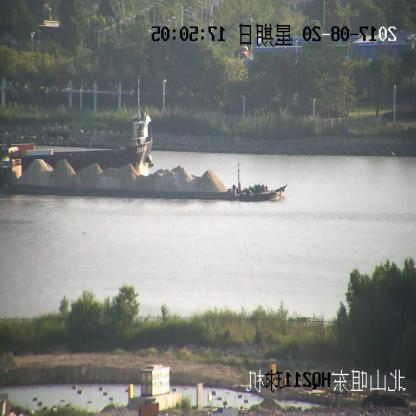Bulk Carrier: (0, 80, 155, 175)
